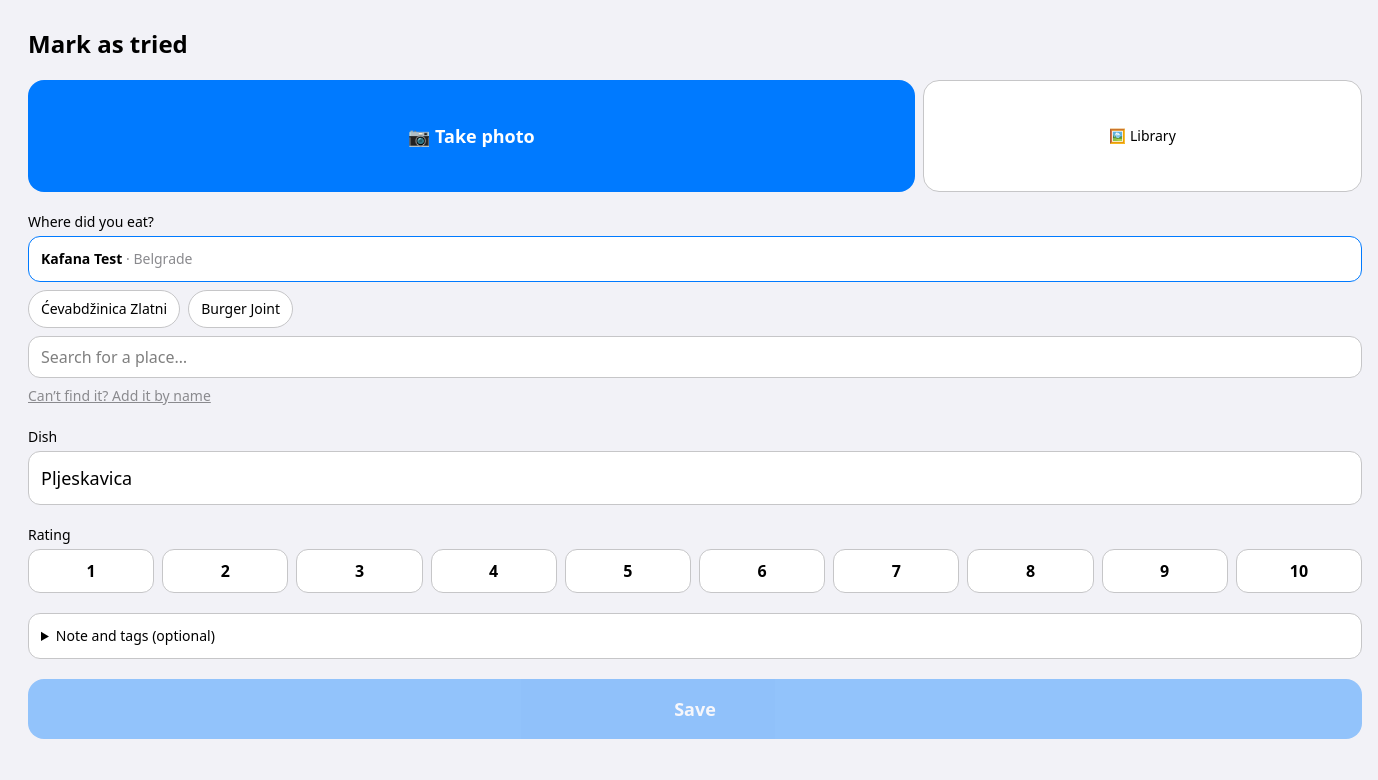
logging a dish › converts a want-to-try item into a logged dish (same row, prefilled)
Expected: the heading "Mark as tried" is shown, [28, 27, 188, 60]
Expected: the field labelled "Dish" holds "Pljeskavica", [28, 451, 1362, 505]
Click the button named "Rate 8" at coordinates (1030, 571), box [967, 549, 1094, 593]
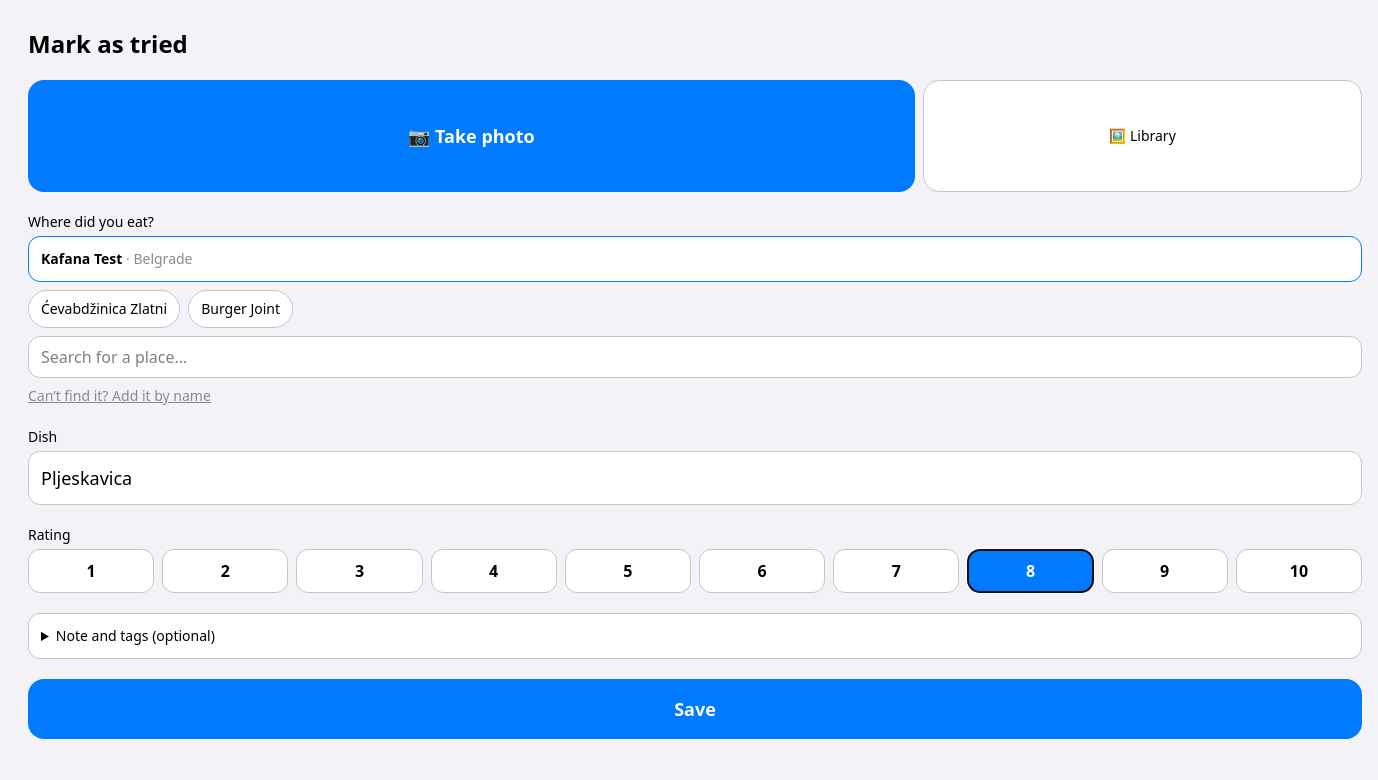
Click the button "Save" at coordinates (695, 709), box [28, 679, 1362, 739]
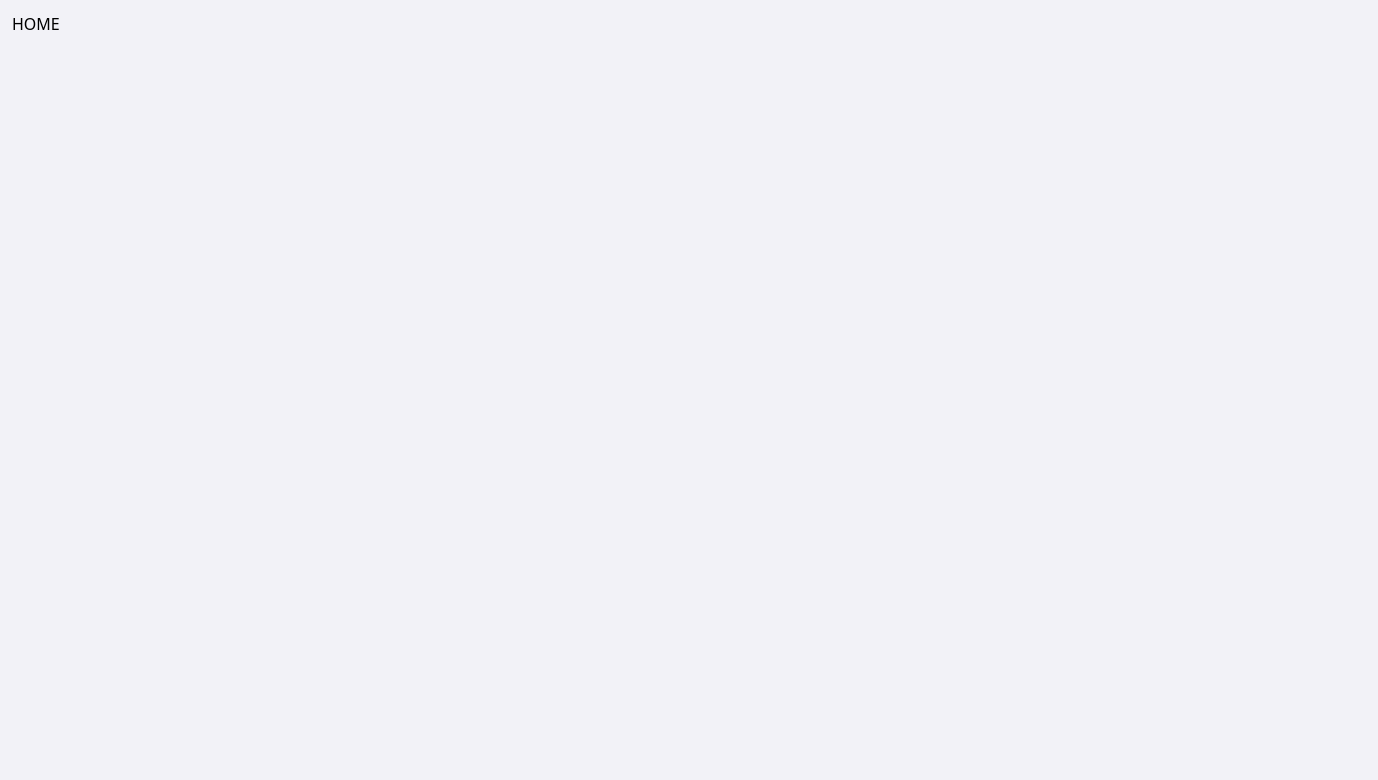
Now the text "HOME" is shown, box [12, 13, 60, 35]
